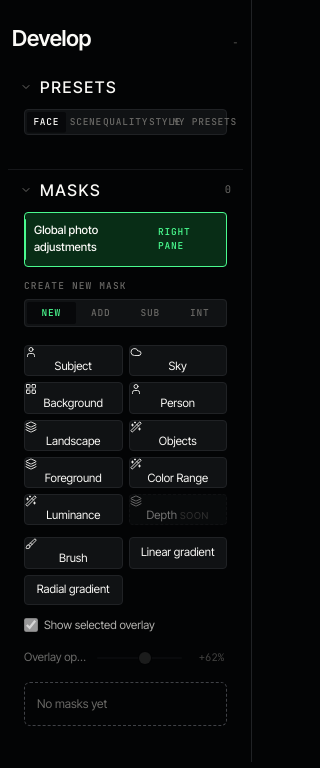
DevelopSidePanel › shows the empty-state message in the custom-presets tab when none exist
Click the radio button labelled "My presets": [205, 122] box x1=185 y1=112 x2=224 y2=132
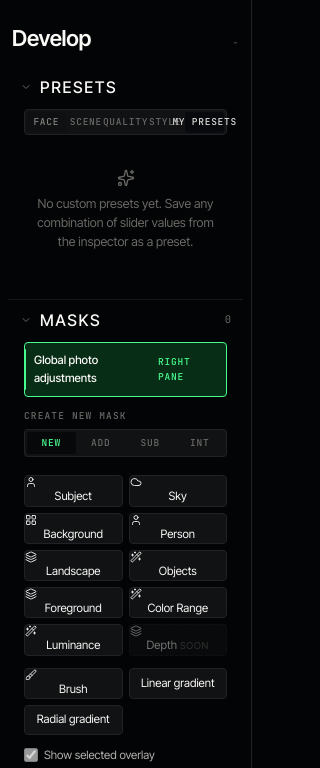
Expected: the text "No custom presets yet" is shown, x1=37 y1=196 x2=214 y2=248
